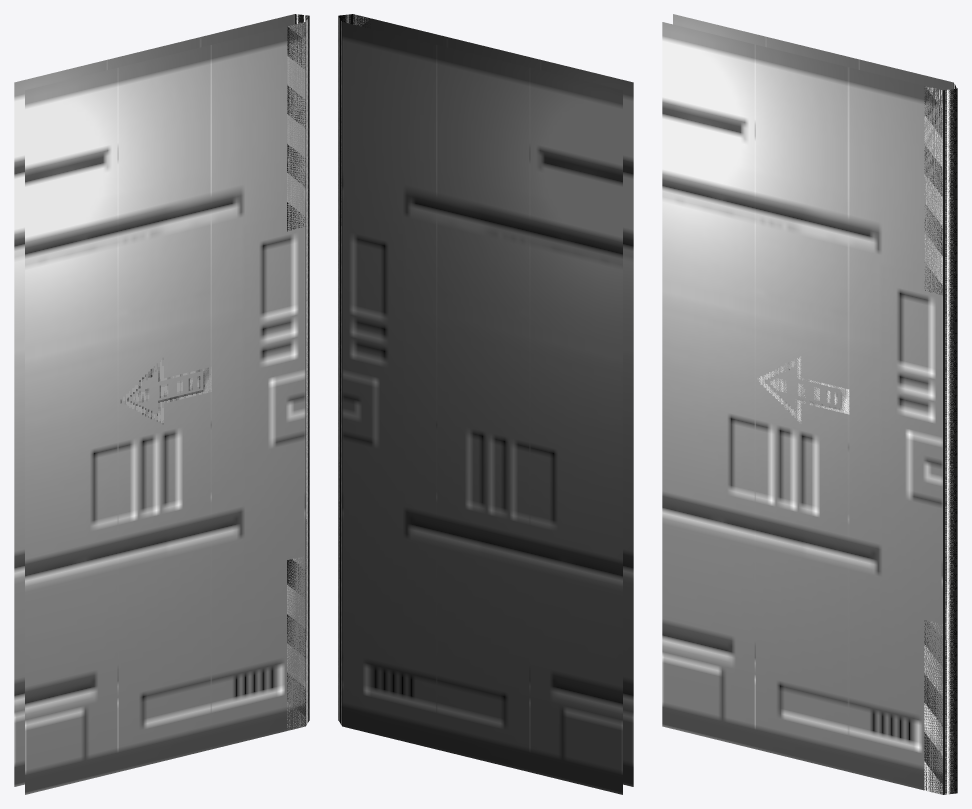
Rendered from Psev_door3Z.obj.
3 views of the same model, side by side, from view 1: azimuth 30°, elevation 25°; view 2: azimuth 150°, elevation 25°; view 3: azimuth 330°, elevation 25° (orthographic).
Bounding box in the file's own units: 904 × 2100 × 58.
Materials: 6 (6 with a texture image).
